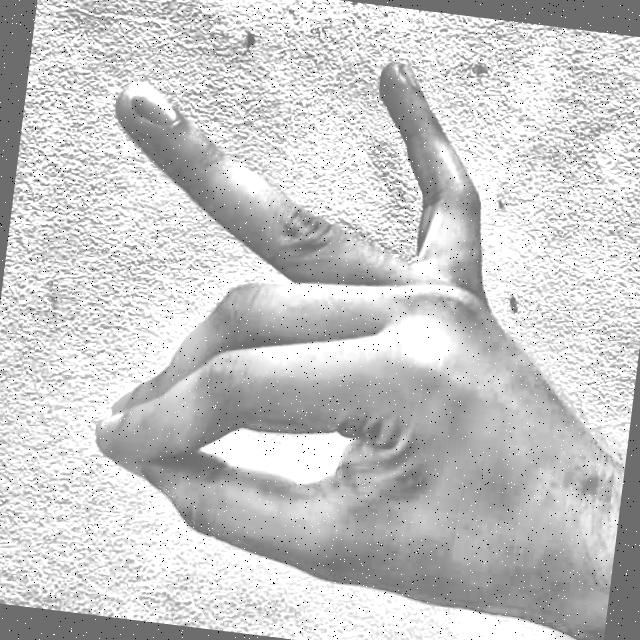Na: (20, 0, 580, 640)
